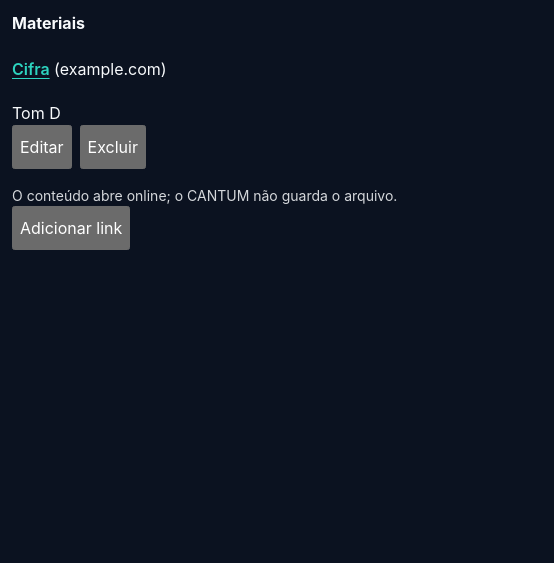
Test: MaterialsPanel › URL recusada mostra alerta
Click the button "Adicionar link". click: (71, 228)
box: [12, 206, 130, 250]
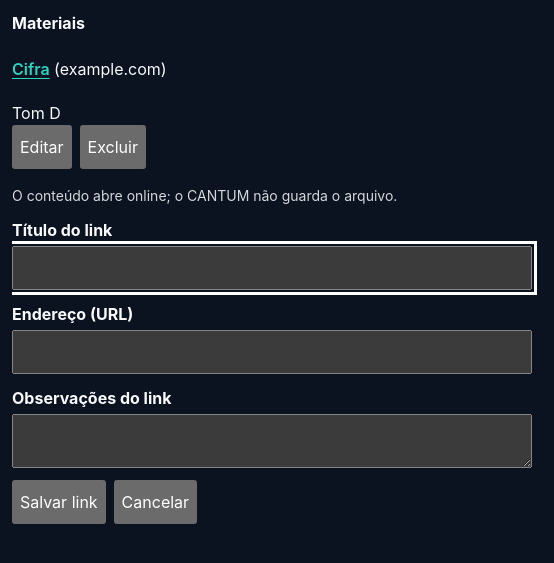
Type "X" into the field labelled "Título do link". click: (272, 268)
box: [12, 246, 532, 290]
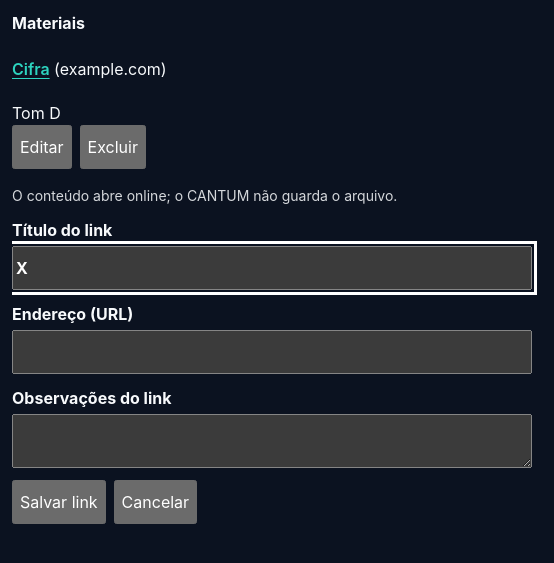
Type "http://x.org" into the field labelled "Endereço (URL)". click: (272, 352)
box: [12, 330, 532, 374]
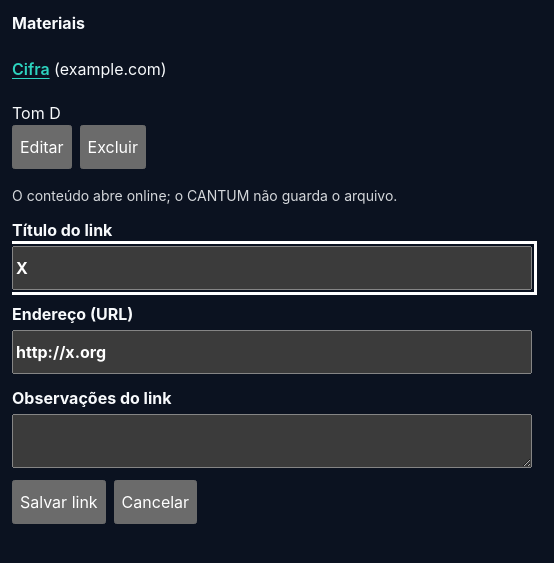
Click the button "Salvar link". click: (59, 502)
box: [12, 480, 106, 524]
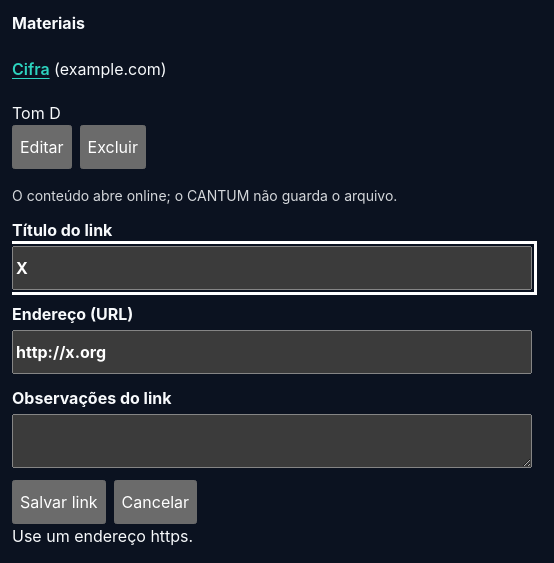
Expected: the message shows "https", [12, 526, 193, 546]
